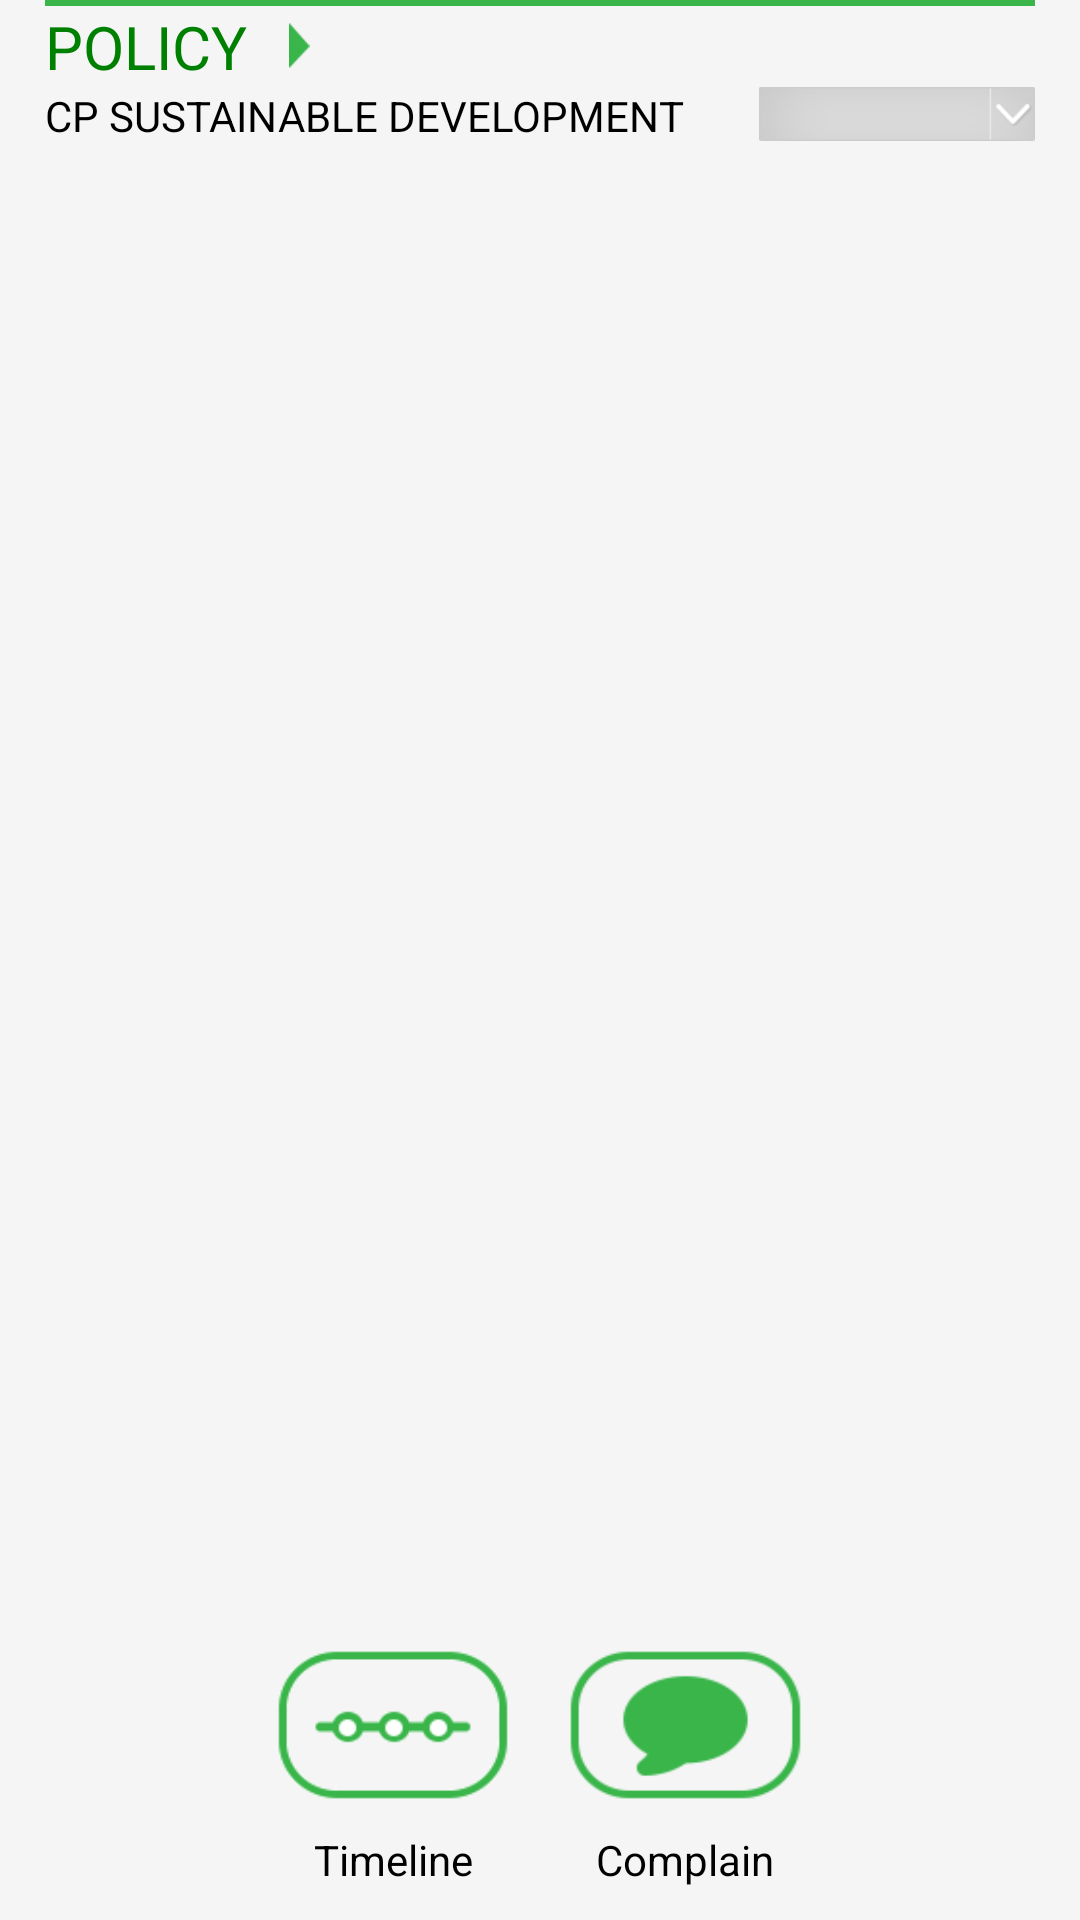

Screen size 1080w x 1920h. Icon name, then its center in pixels as (x=x, y=y):
btright: (x=299, y=45)
